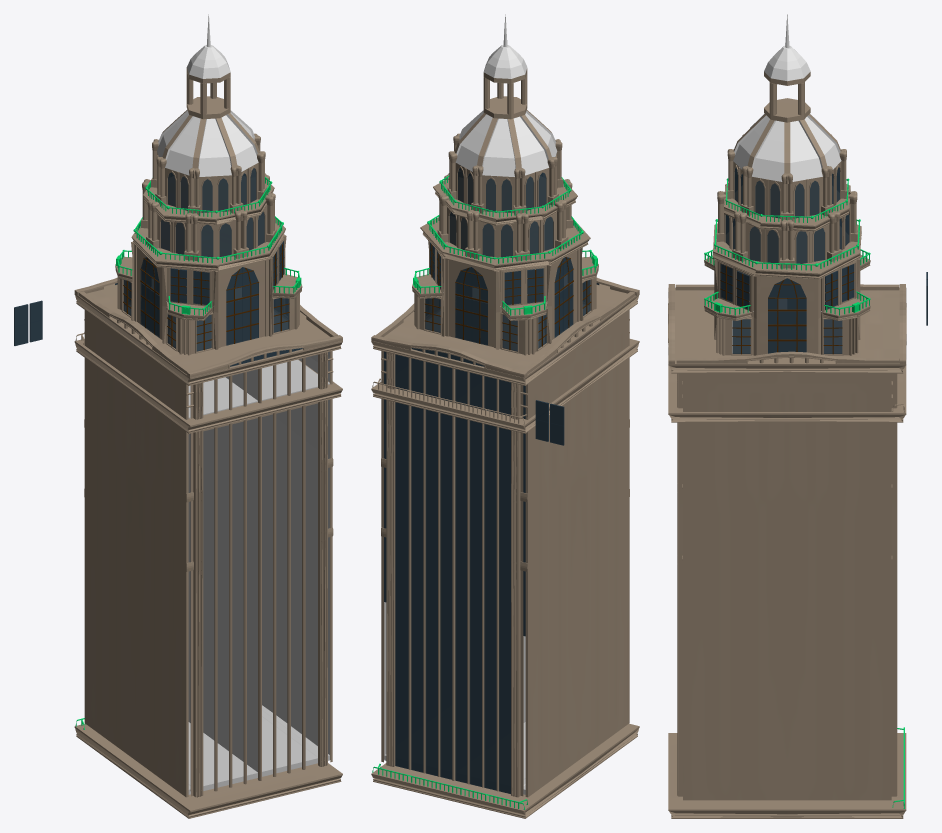
File: FirstLevel.fbx
3 views of the same model, side by side, from view 1: azimuth 30°, elevation 25°; view 2: azimuth 150°, elevation 25°; view 3: azimuth 270°, elevation 25° (orthographic). The views are drawn at different scales.
Parts seen in each view (by area): view 1: Level-1.001, Inner-Wall-Level1.005, Inner-Wall-Level1.006, body-Level-2-3, Floor-Level-1.001, Level-1, Circle, Floor-Level-1, Floor-Level-2.001, Floor-Level-2, Inner-Floor_Level1.003, Floor-Level-4 (+15 smaller); view 2: Level-1.001, body-Level-2-3, Level-1, Floor-Level-1.001, window4.003, window1.003, window2.002, window3.002, window3.003, window1.002, window2.003, window4.002 (+19 smaller); view 3: Level-1.001, Level-1, Floor-Level-2.001, Floor-Level-1.001, body-Level-2-3, Circle, Floor-Level-1, Floor-Level-2, Floor-Level-4, Floor-Level-4.001, Roof-concreate-fence.009, Circle.003 (+16 smaller).
Part boxes in pixels (left/top/right/bottom): Level-1.001: left=84, top=358, right=333, bottom=797; Inner-Wall-Level1.005: left=188, top=418, right=257, bottom=772; Inner-Wall-Level1.006: left=262, top=400, right=329, bottom=754; body-Level-2-3: left=117, top=235, right=299, bottom=355; Floor-Level-1.001: left=74, top=723, right=342, bottom=818; Level-1: left=84, top=310, right=333, bottom=419; Circle: left=157, top=110, right=258, bottom=176; Floor-Level-1: left=74, top=339, right=342, bottom=433; Floor-Level-2.001: left=78, top=284, right=330, bottom=374; Floor-Level-2: left=74, top=283, right=342, bottom=385; Inner-Floor_Level1.003: left=262, top=705, right=329, bottom=776; Floor-Level-4: left=131, top=218, right=285, bottom=271; Level-1.001: left=381, top=358, right=629, bottom=797; body-Level-2-3: left=414, top=240, right=596, bottom=355; Level-1: left=381, top=310, right=629, bottom=419; Floor-Level-1.001: left=371, top=723, right=639, bottom=818; window4.003: left=395, top=402, right=408, bottom=768; window1.003: left=411, top=406, right=423, bottom=772; window2.002: left=469, top=420, right=481, bottom=786; window3.002: left=484, top=424, right=496, bottom=790; window3.003: left=440, top=413, right=452, bottom=779; window1.002: left=455, top=417, right=467, bottom=783; window2.003: left=425, top=409, right=437, bottom=776; window4.002: left=499, top=427, right=510, bottom=793; Level-1.001: left=677, top=422, right=897, bottom=800; Level-1: left=677, top=373, right=897, bottom=411; Floor-Level-2.001: left=675, top=287, right=899, bottom=363; Floor-Level-1.001: left=668, top=733, right=906, bottom=818; body-Level-2-3: left=714, top=254, right=860, bottom=355; Circle: left=733, top=113, right=841, bottom=181; Floor-Level-1: left=668, top=365, right=906, bottom=422; Floor-Level-2: left=668, top=288, right=906, bottom=373; Floor-Level-4: left=713, top=223, right=861, bottom=279; Floor-Level-4.001: left=724, top=183, right=850, bottom=231; Roof-concreate-fence.009: left=676, top=351, right=899, bottom=363; Circle.003: left=764, top=45, right=810, bottom=81.
Size of the model in its own units: 1386 by 4860 by 1493.
